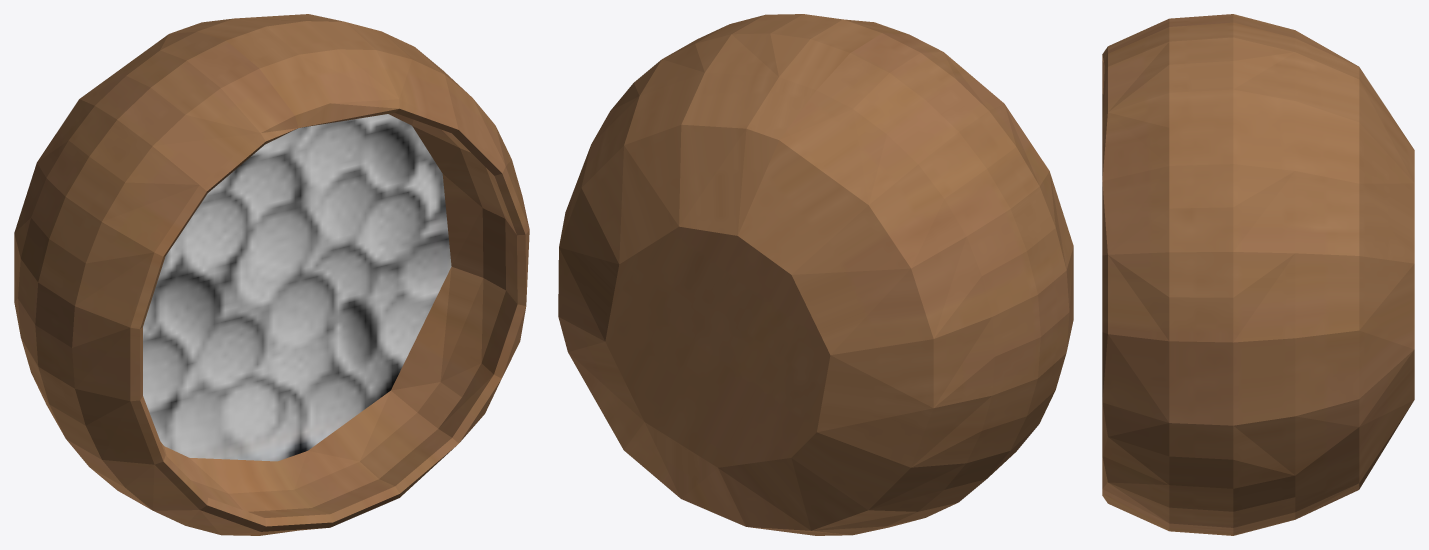
The model's file is go_bowl.glb.
3 views of the same model, side by side, from view 1: azimuth 30°, elevation 25°; view 2: azimuth 150°, elevation 25°; view 3: azimuth 270°, elevation 25° (orthographic). The views are drawn at different scales.
Parts seen in each view (by area): view 1: go_bowl.obj; view 2: go_bowl.obj; view 3: go_bowl.obj.
Part boxes in pixels (x1,y1,x2,y2): go_bowl.obj: (14,14,529,535); go_bowl.obj: (558,14,1073,535); go_bowl.obj: (1102,14,1414,535).
Bounding box in the file's own units: 0.9926 × 1 × 0.5958.
1 material, 1 textured.
